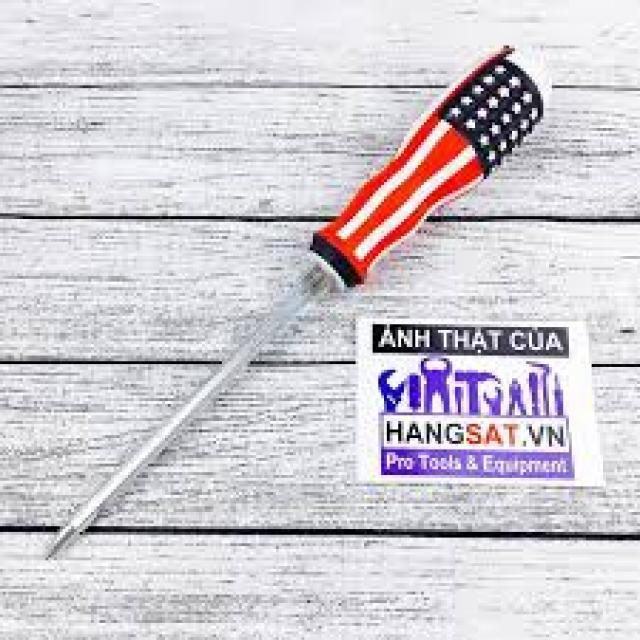screwdriver: (37, 44, 555, 568)
